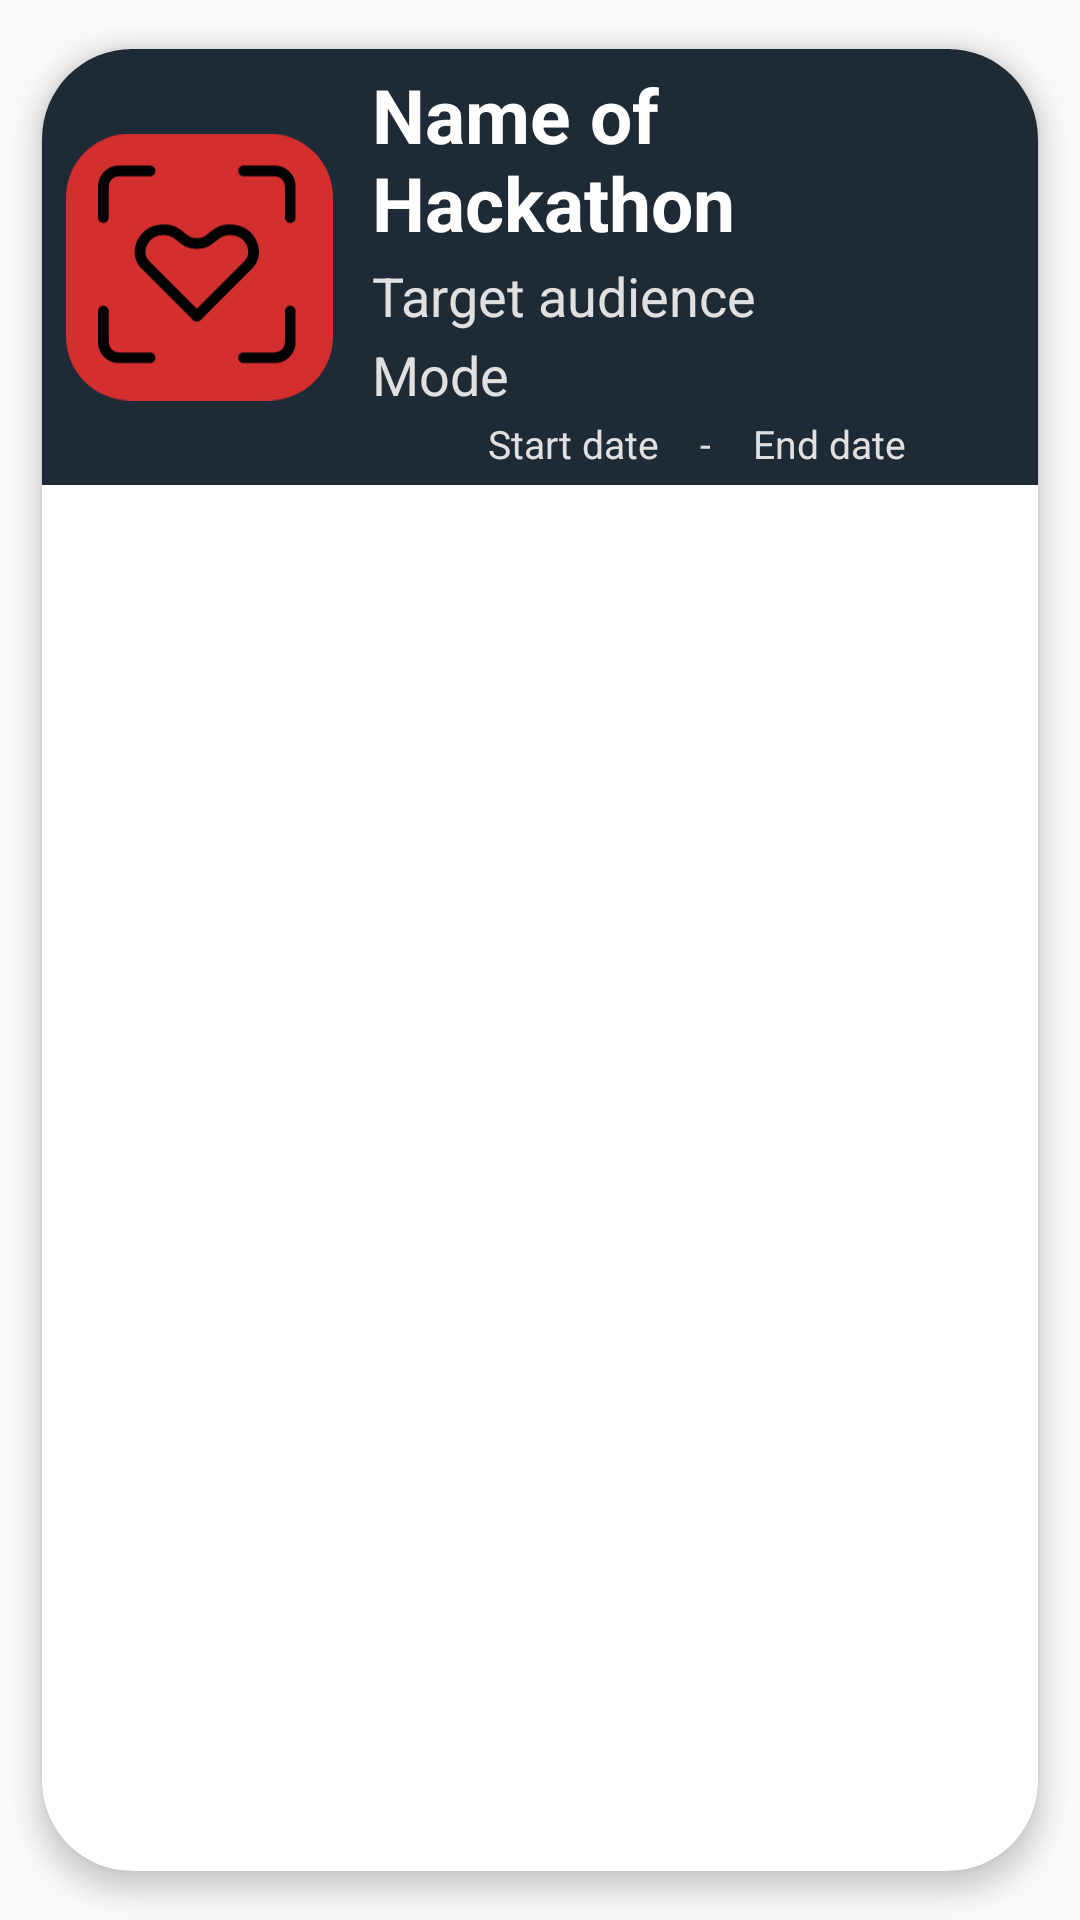

Screen size 1080×1920. Icon name, then its center in pixels as point (x, y):
healthtech: point (199, 267)
